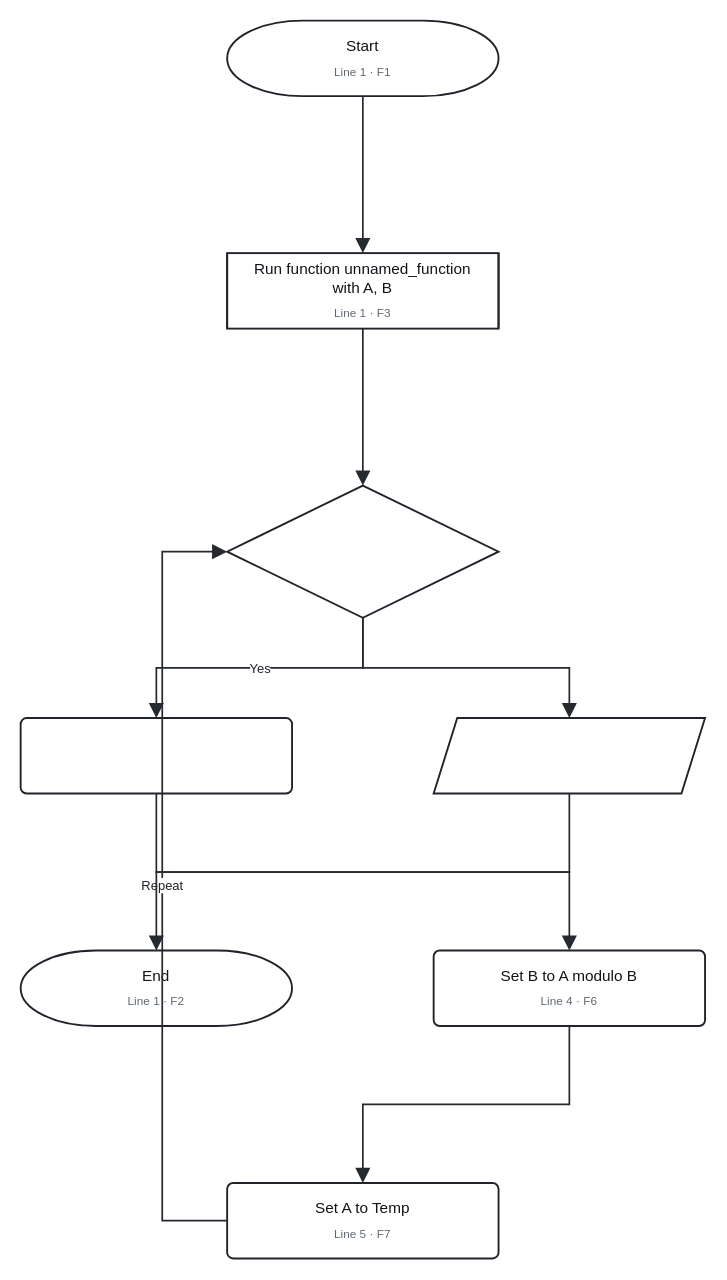
Some shapes in this 727 by 1280 pixel diagram are drawn without their labels. Each missing label, with the centre of its shape:
B is not equal to 0? Line 2 · F4: the point at 362,551
Display A Line 8 · F8: the point at 568,755
Set Temp to B Line 3 · F5: the point at 155,755
